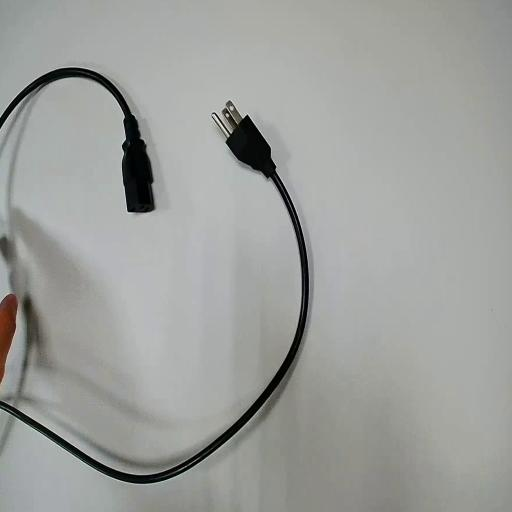wire: (0, 117, 307, 482), (0, 68, 153, 211)
